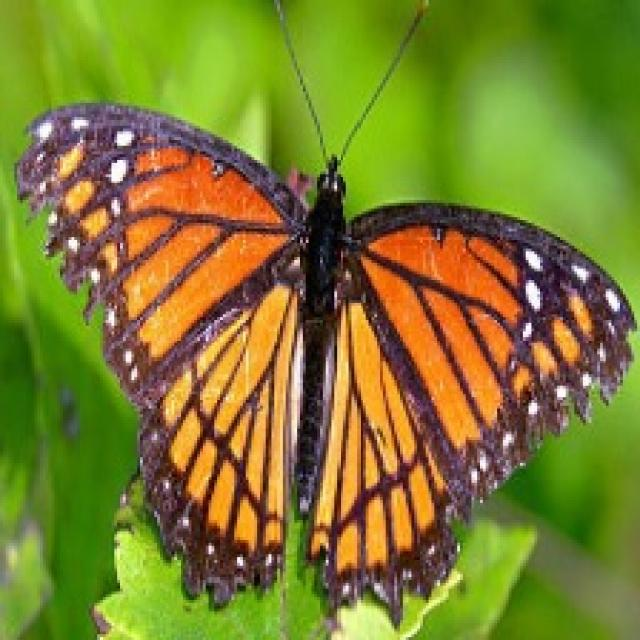butterfly: (11, 0, 637, 631)
